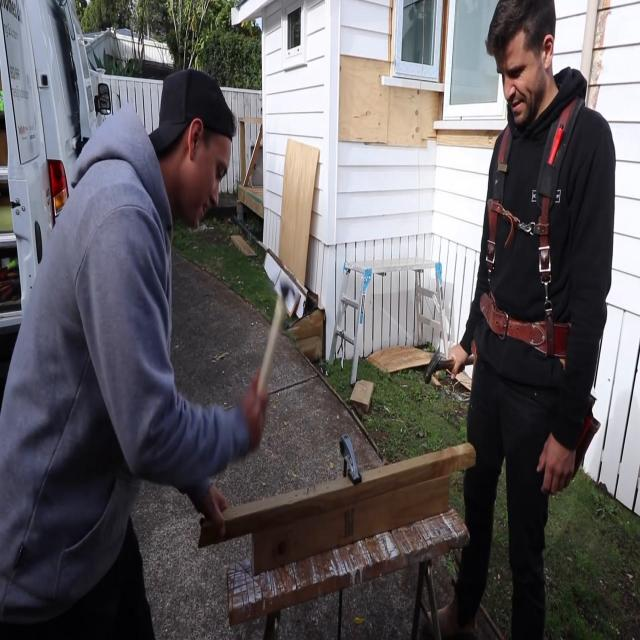hammer: (424, 346, 474, 383)
